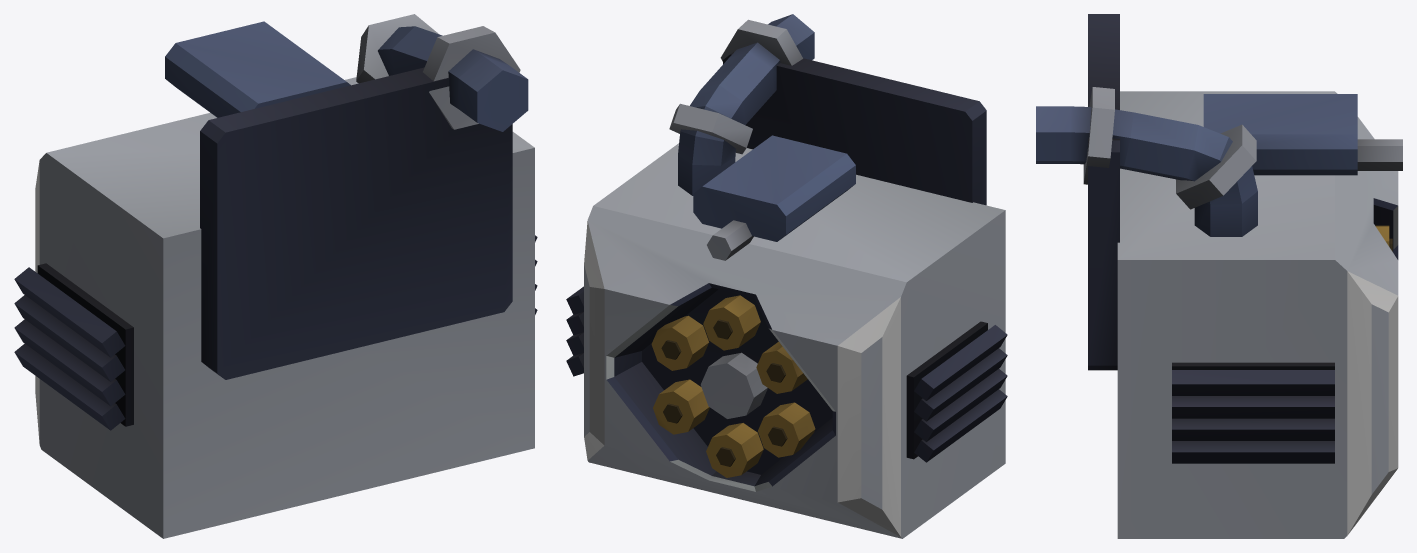
File: waist-autoloader.glb
3 views of the same model, side by side, from view 1: azimuth 30°, elevation 25°; view 2: azimuth 150°, elevation 25°; view 3: azimuth 270°, elevation 25° (orthographic). The views are drawn at different scales.
Parts seen in each view (by area): view 1: Body; view 2: Body; view 3: Body.
Boxes of the visible parts, x1,y1,x2,y2 form: Body: (14, 14, 537, 538); Body: (566, 14, 1007, 538); Body: (1036, 14, 1402, 538).
Bounding box in the file's own units: 1.03 × 0.9924 × 0.81.
